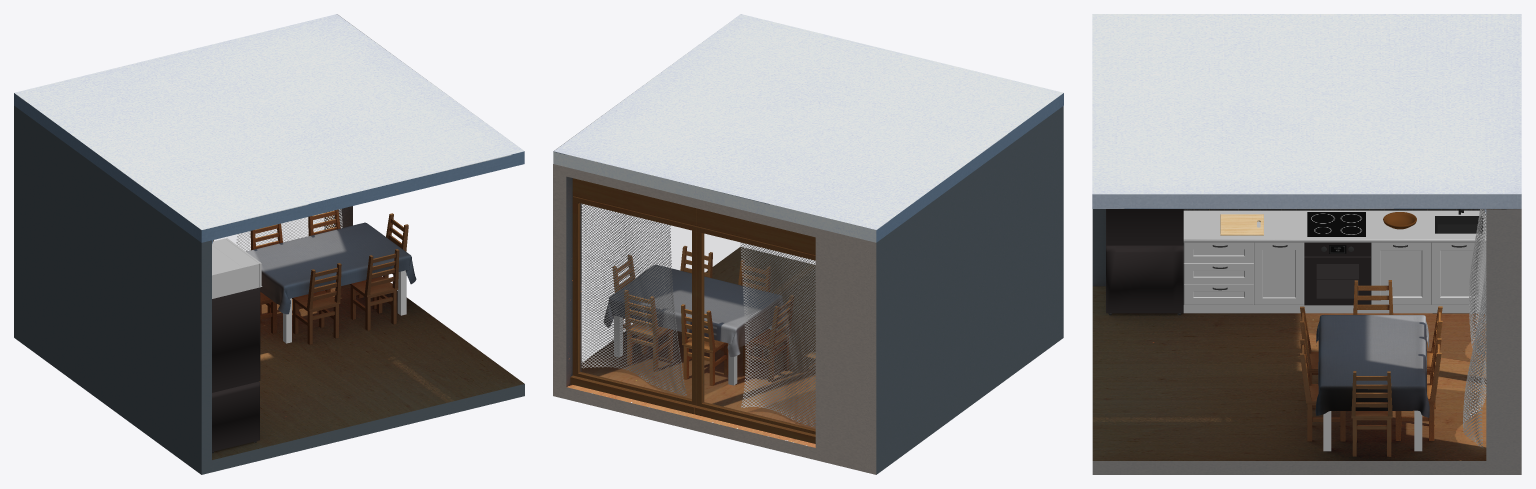
3 views of the same model, side by side, from view 1: azimuth 30°, elevation 25°; view 2: azimuth 150°, elevation 25°; view 3: azimuth 270°, elevation 25° (orthographic). The views are drawn at different scales.
Parts seen in each view (by area): view 1: pomieszczenie.001, object 46, obrus, krzeslo.002, okap, object 26; view 2: pomieszczenie.001, OKIENNICE, object 26, zaslony 2, obrus, krzeslo.002, okap; view 3: pomieszczenie.001, okap, obrus, object 46, krzeslo.002, piekarnik, object 26, PLYTA, zaslony 2, w piekarnik, deska, zlew (+2 smaller).
Boxes of the visible parts, x1=… form: pomieszczenie.001: x1=14, y1=14, x2=524, y2=474; object 46: x1=212, y1=287, x2=260, y2=451; obrus: x1=246, y1=222, x2=416, y2=314; krzeslo.002: x1=250, y1=209, x2=408, y2=344; okap: x1=212, y1=238, x2=406, y2=343; object 26: x1=236, y1=209, x2=342, y2=251; pomieszczenie.001: x1=553, y1=14, x2=1063, y2=474; OKIENNICE: x1=570, y1=178, x2=815, y2=443; object 26: x1=581, y1=203, x2=686, y2=395; zaslony 2: x1=740, y1=242, x2=815, y2=427; obrus: x1=603, y1=265, x2=785, y2=356; krzeslo.002: x1=612, y1=246, x2=793, y2=385; okap: x1=614, y1=316, x2=777, y2=385; pomieszczenie.001: x1=1092, y1=14, x2=1521, y2=474; okap: x1=1183, y1=210, x2=1486, y2=451; obrus: x1=1315, y1=315, x2=1429, y2=417; object 46: x1=1106, y1=209, x2=1183, y2=313; krzeslo.002: x1=1300, y1=280, x2=1442, y2=456; piekarnik: x1=1304, y1=242, x2=1370, y2=305; object 26: x1=1463, y1=262, x2=1486, y2=447; PLYTA: x1=1307, y1=212, x2=1365, y2=253; zaslony 2: x1=1469, y1=209, x2=1486, y2=355; w piekarnik: x1=1316, y1=264, x2=1358, y2=298; deska: x1=1220, y1=214, x2=1263, y2=235; zlew: x1=1435, y1=216, x2=1482, y2=233.
Bounding box in the file's own units: 4.93 × 3.57 × 4.96.
